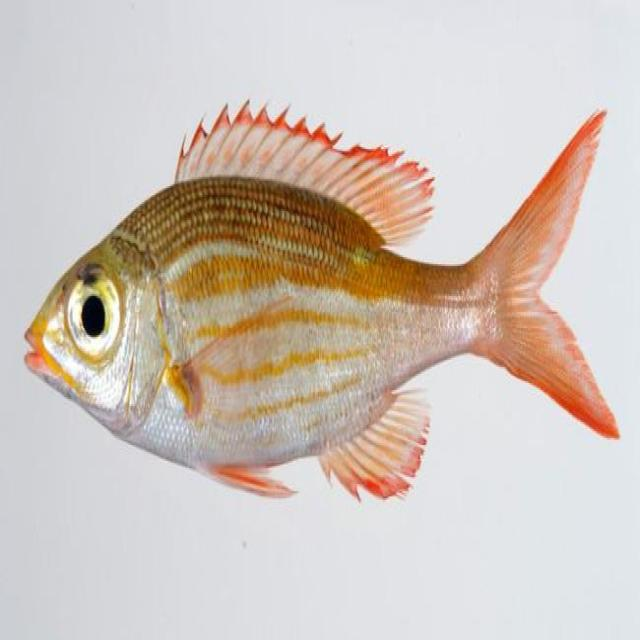ikan: (21, 83, 620, 506)
